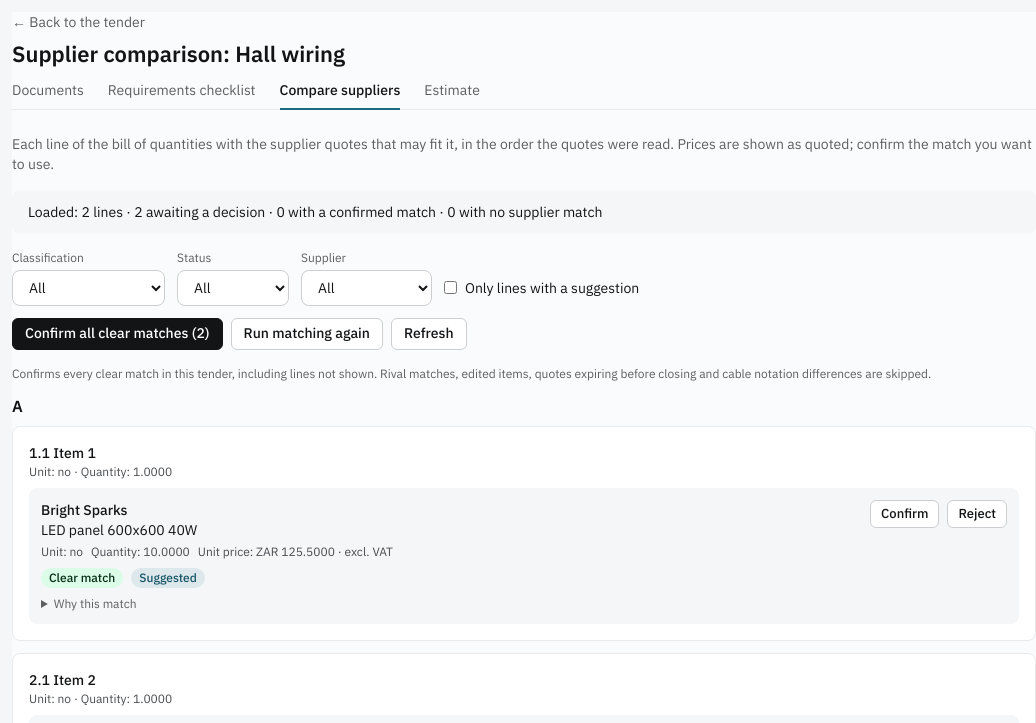
Test: ComparisonView › shows the current error only
Step 1. Click the button "Confirm all clear matches (2)" → click(117, 334), box 12,318 -> 222,350
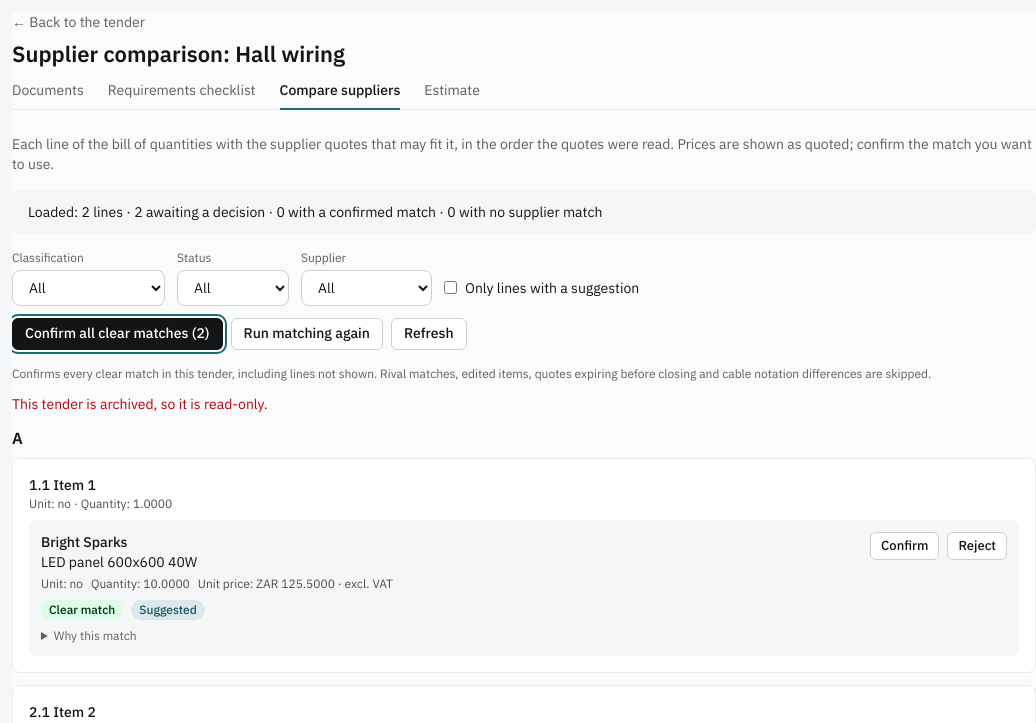
Now the text "This tender is archived, so it is read-only." is shown, box 12,394 -> 268,412
Step 2. Click the button "Run matching again" → click(307, 334), box 230,318 -> 383,350
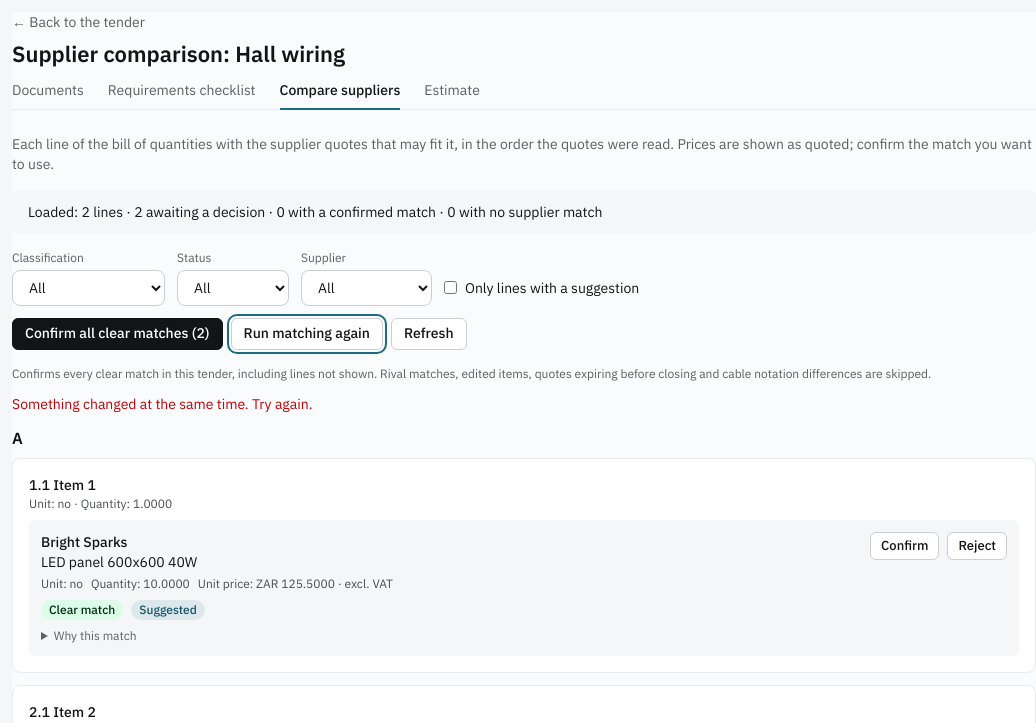
Now the text "Something changed at the same time. Try again." is shown, box 12,394 -> 312,412
Now the text "This tender is archived, so it is read-only." is gone
